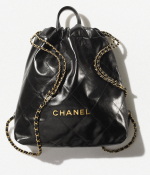channel: (16, 24, 129, 149), (42, 45, 67, 100), (44, 106, 98, 122)
